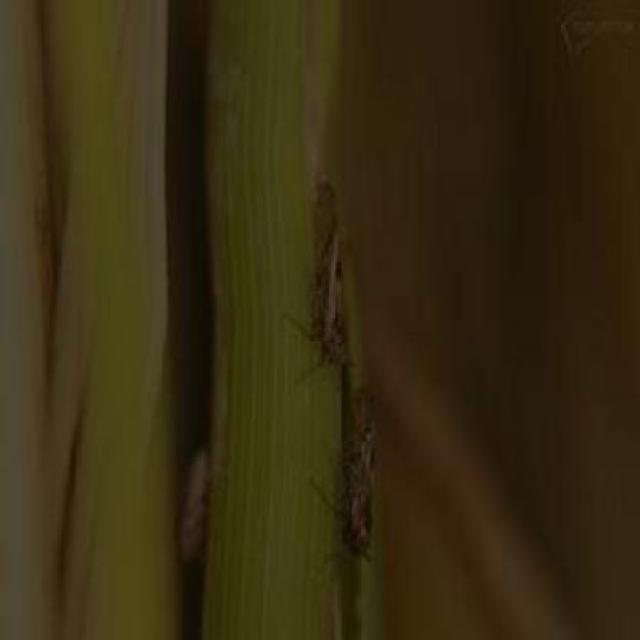brown-planthopper: (311, 181, 352, 370), (342, 390, 376, 561), (178, 442, 216, 564)
